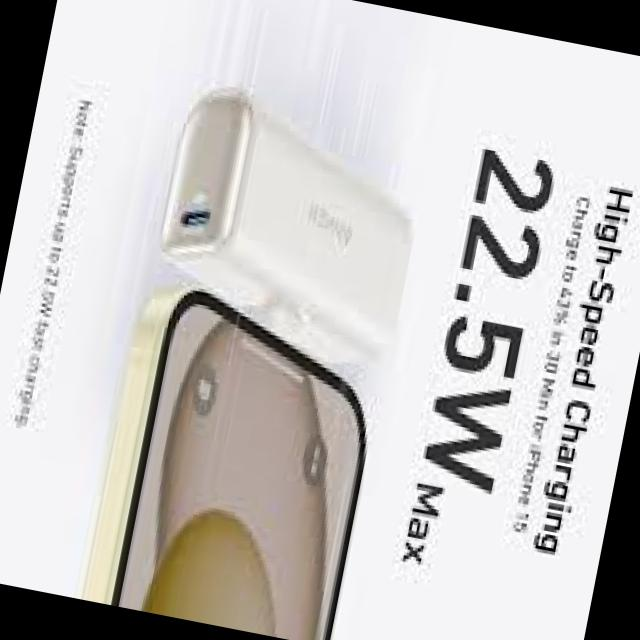power_bank: (137, 80, 439, 390)
